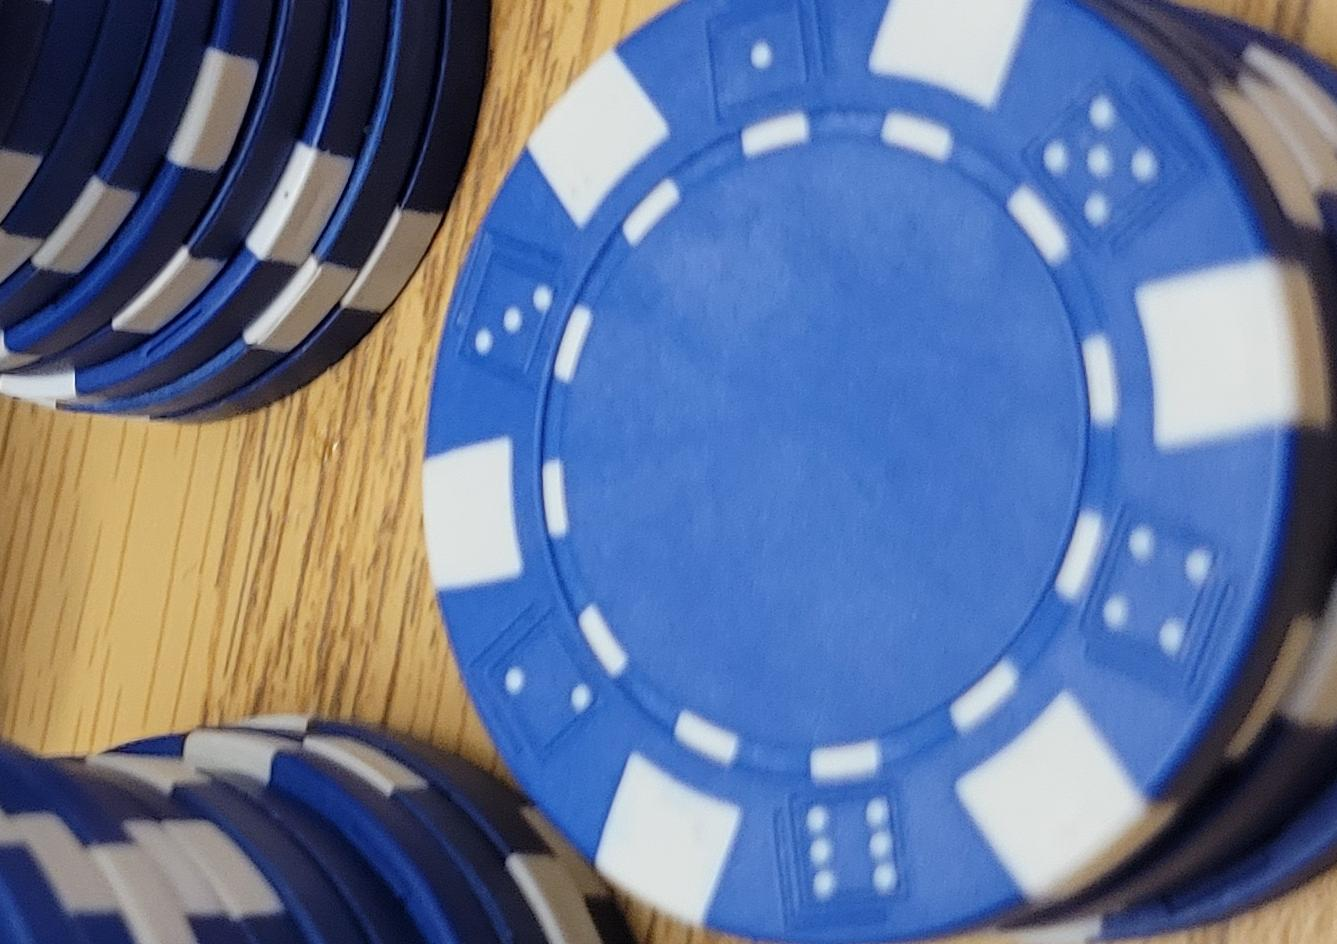Chip: (1, 343, 493, 944)
